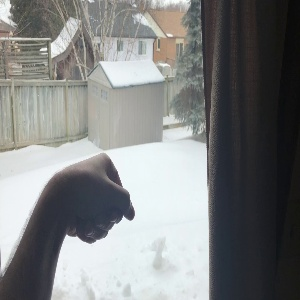hand: (51, 152, 135, 245)
